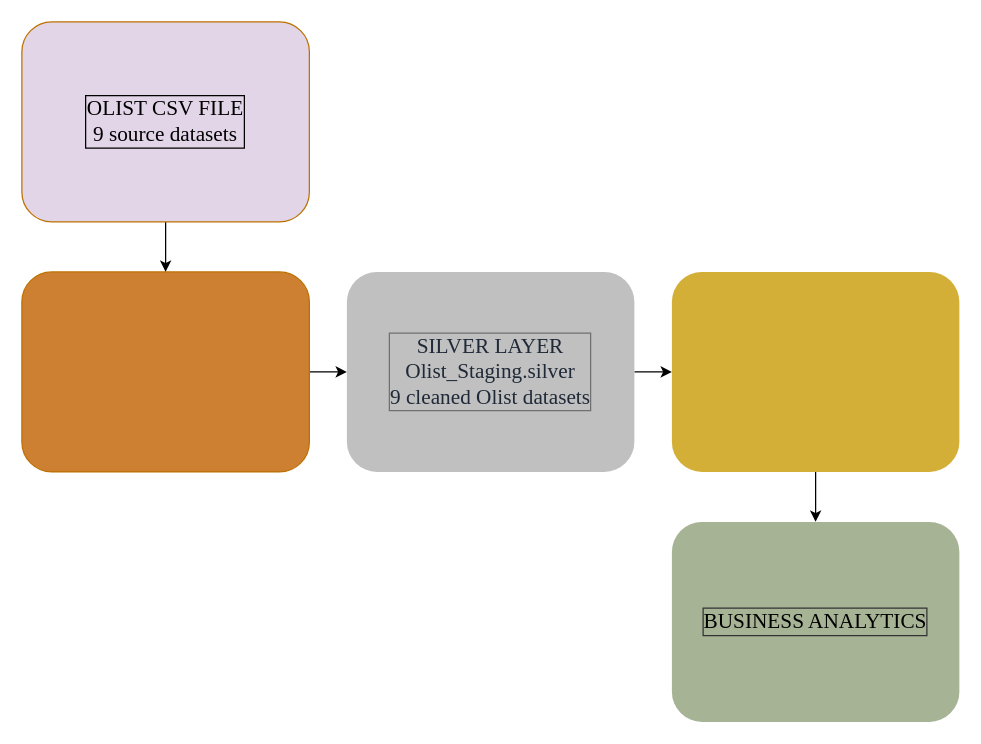
The diagram is 981 pixels wide and 744 high, and some of its shapes have lost their labels. The shapes that lost their labels are listed below. From the top down, each one's centre as x and y in pixels, then its label:
the point at 165,371: BRONZE LAYER Olist_Staging.bronze 9 raw Olist datasets
the point at 815,371: GOLD LAYER Olist_DWH.gold 4 dimensions + 2 facts
